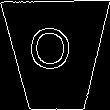O_S: (34, 29, 78, 81)
